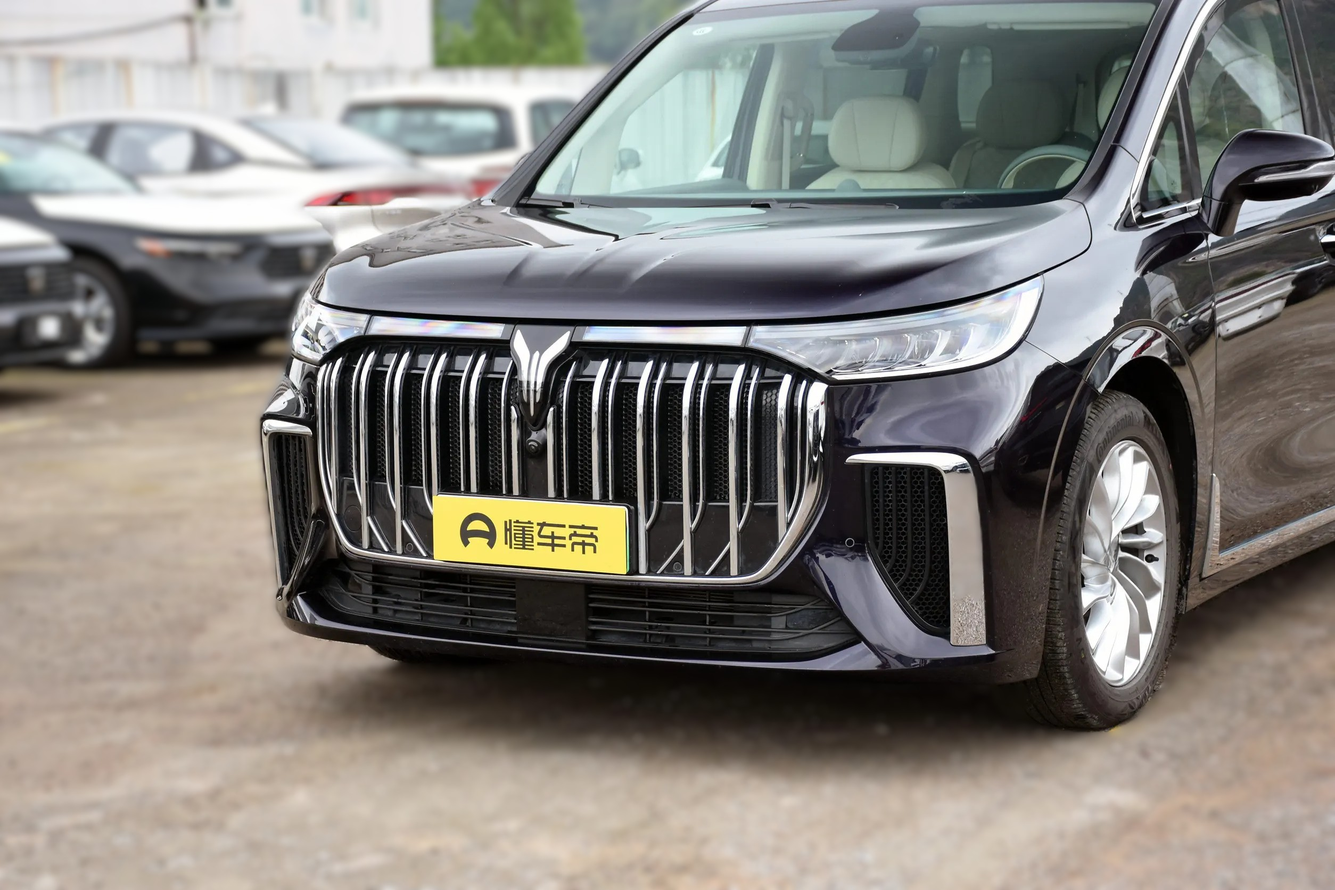VOYAH: (513, 329, 570, 416)
